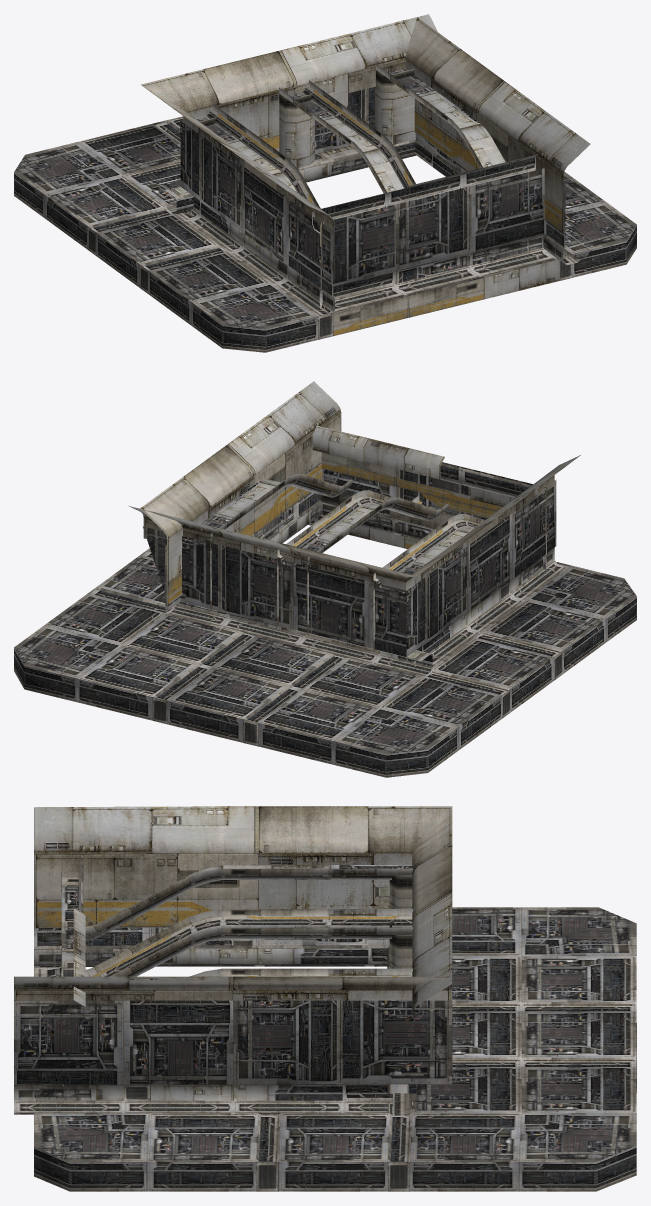
The model's file is STR_CeilingOpen_50x50.FBX.
3 renders of one model, top to bottom at view 1: azimuth 30°, elevation 25°; view 2: azimuth 150°, elevation 25°; view 3: azimuth 270°, elevation 25°, orthographic. The views are drawn at different scales.
Visible parts, largest first — view 1: STR_CeilingOpen_50x50; view 2: STR_CeilingOpen_50x50; view 3: STR_CeilingOpen_50x50.
Part boxes in pixels (x1,y1,x2,y2): STR_CeilingOpen_50x50: (14, 14, 636, 352); STR_CeilingOpen_50x50: (14, 381, 636, 777); STR_CeilingOpen_50x50: (14, 806, 636, 1191).
Bounding box in the file's own units: 2750 × 871 × 2842.
